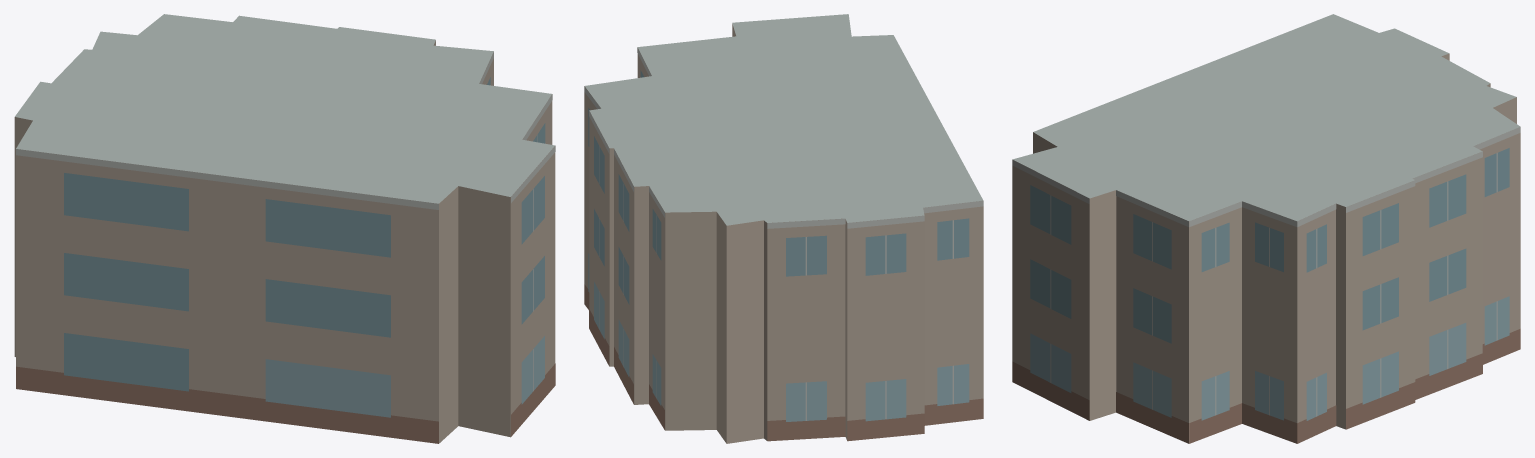
File: survey-upis-32920065.glb
The picture shows the model from 3 angles, left to right: view 1: azimuth 30°, elevation 25°; view 2: azimuth 150°, elevation 25°; view 3: azimuth 270°, elevation 25°; orthographic projection. The views are drawn at different scales.
Parts seen in each view (by area): view 1: survey-upis-32920065.tmp; view 2: survey-upis-32920065.tmp; view 3: survey-upis-32920065.tmp.
Boxes of the visible parts, bbox=[...] form: survey-upis-32920065.tmp: bbox=[14, 14, 555, 443]; survey-upis-32920065.tmp: bbox=[584, 14, 983, 443]; survey-upis-32920065.tmp: bbox=[1012, 14, 1520, 443].
Bounding box in the file's own units: 18.3 × 9.15 × 18.95.
